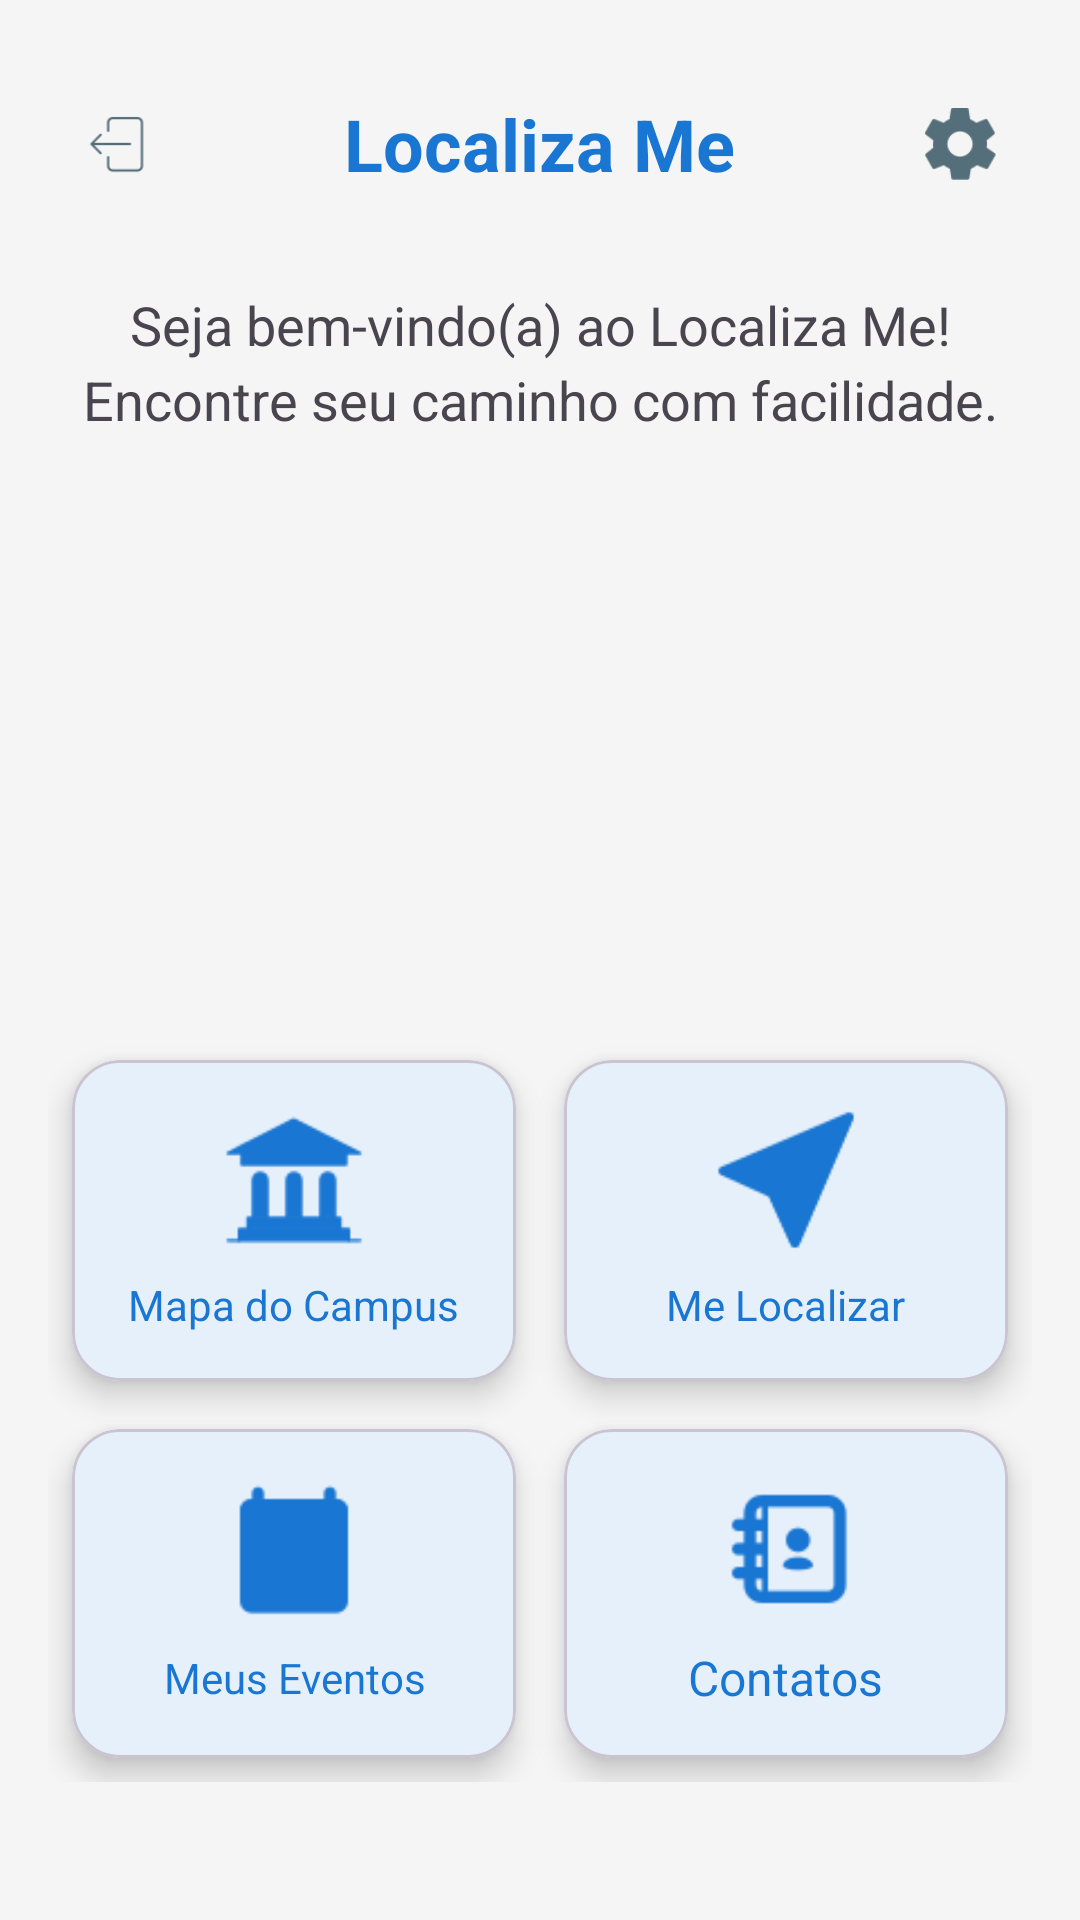

Icon click points for this 1080 × 1920 phone screenshot, format (x,y):
Exit Button: (117,144)
Icon Contacts: (789,1549)
Schedule Icon: (294,1549)
Settings Button: (960,144)
